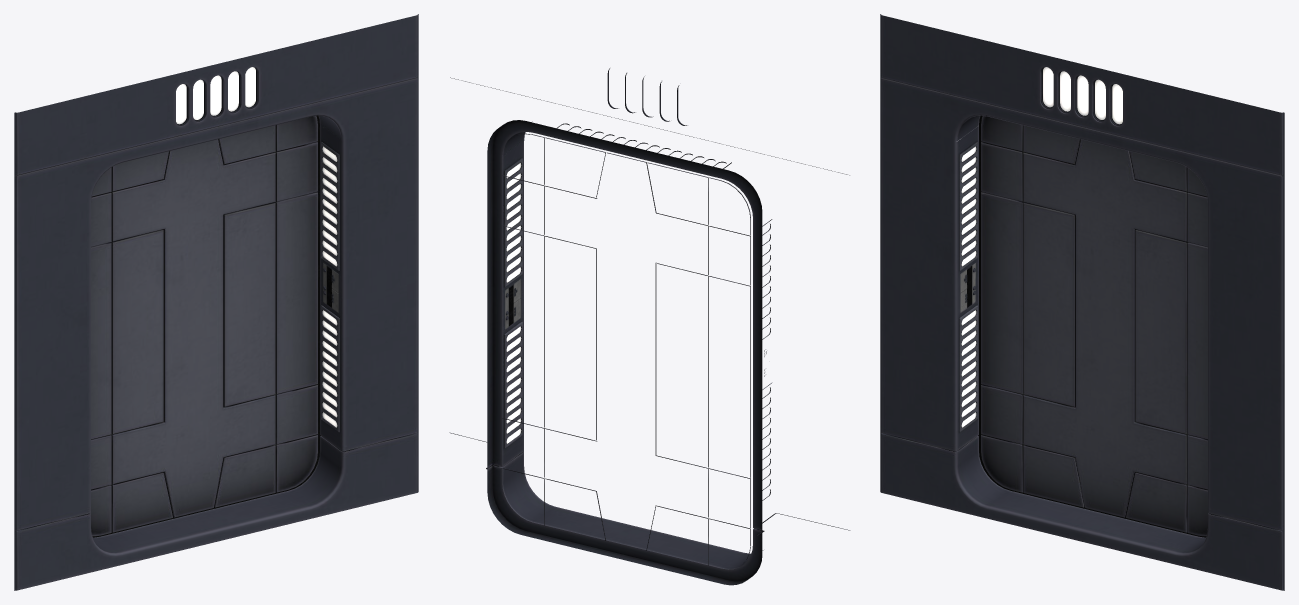
Rendered from venator-small-door.glb.
3 views of the same model, side by side, from view 1: azimuth 30°, elevation 25°; view 2: azimuth 150°, elevation 25°; view 3: azimuth 330°, elevation 25° (orthographic).
Visible parts, largest first — view 1: Small_DoorFrame, Venator_Door1; view 2: Small_DoorFrame, Venator_Door1; view 3: Small_DoorFrame, Venator_Door1.
Boxes of the visible parts, left/top/right/bottom form: Small_DoorFrame: left=14, top=14, right=418, bottom=590; Venator_Door1: left=91, top=115, right=320, bottom=537; Small_DoorFrame: left=449, top=68, right=850, bottom=585; Venator_Door1: left=502, top=133, right=750, bottom=565; Small_DoorFrame: left=880, top=14, right=1284, bottom=590; Venator_Door1: left=978, top=115, right=1207, bottom=537.
Size of the model in its own units: 228 by 258 by 27.48.
Materials: 1 (1 with a texture image).
